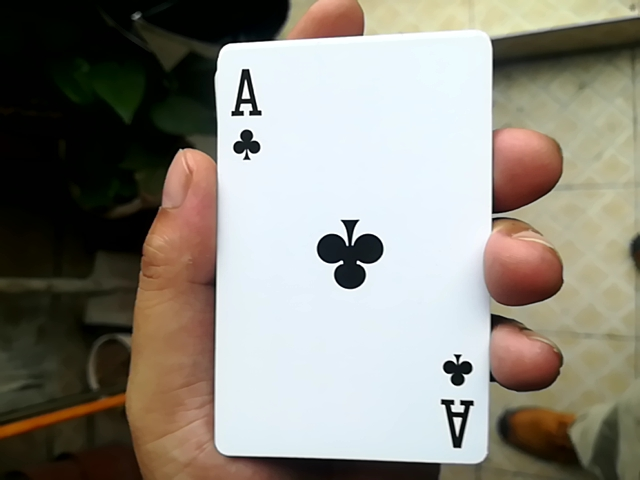mh a: (199, 24, 491, 460)
